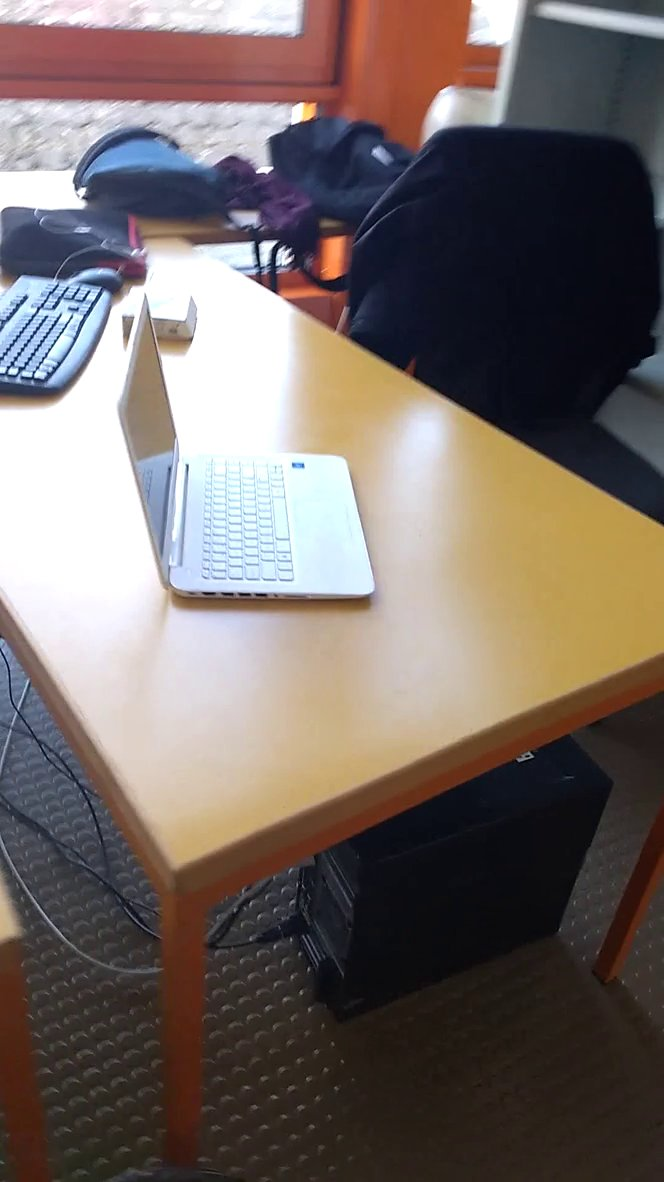bag: (262, 101, 443, 233), (69, 118, 254, 236)
chair: (352, 122, 664, 440)
laptop: (94, 276, 393, 622)
